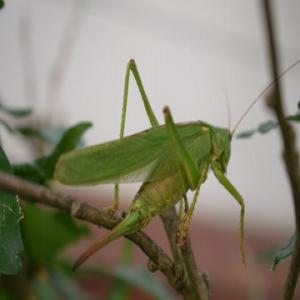locust: (56, 99, 248, 259)
